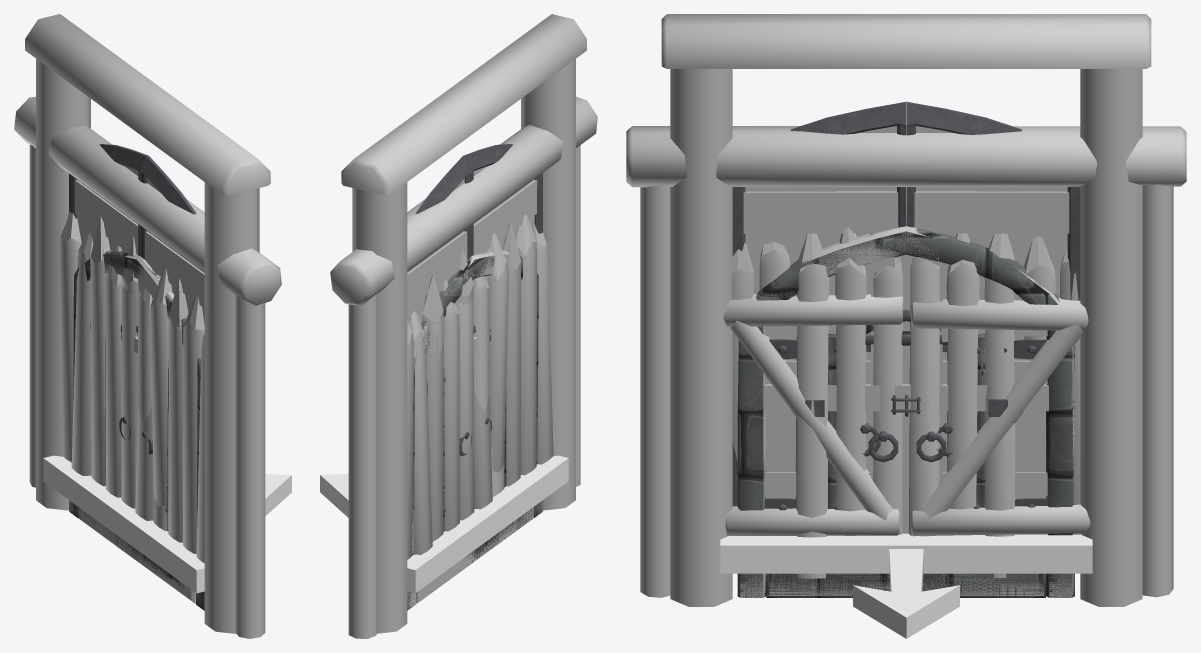
Rendered from doors.fbx.
3 renders of one model, left to right at view 1: azimuth 30°, elevation 25°; view 2: azimuth 150°, elevation 25°; view 3: azimuth 270°, elevation 25°, orthographic. The views are drawn at different scales.
Parts seen in each view (by area): view 1: Frame.002, posts, Right.001, Left.001, Frame.001, Trigger2, Door, frame-stone, Right, frame-wood.003, Log.02, Log.03 (+3 smaller); view 2: Frame.002, posts, Left.001, Right.001, Door, Trigger2, Frame.001, frame-stone, frame-wood.003, Left, Log.02, Right (+3 smaller); view 3: Frame.002, posts, Frame.001, frame-stone, Left.001, Right.001, Trigger2, Door, Left, Right, frame-wood.003, Log.06 (+12 smaller).
Part boxes in pixels (left/top/right/bottom): Frame.002: left=25, top=14, right=270, bottom=633; posts: left=14, top=96, right=281, bottom=638; Right.001: left=59, top=212, right=134, bottom=508; Left.001: left=135, top=267, right=204, bottom=563; Frame.001: left=36, top=14, right=270, bottom=630; Trigger2: left=43, top=455, right=204, bottom=593; Door: left=69, top=144, right=204, bottom=324; frame-stone: left=69, top=250, right=204, bottom=610; Right: left=72, top=151, right=144, bottom=255; frame-wood.003: left=69, top=250, right=200, bottom=603; Log.02: left=138, top=283, right=151, bottom=423; Log.03: left=122, top=236, right=138, bottom=508; Frame.002: left=341, top=14, right=586, bottom=633; posts: left=330, top=96, right=597, bottom=638; Left.001: left=474, top=214, right=553, bottom=509; Right.001: left=407, top=273, right=474, bottom=559; Door: left=407, top=144, right=542, bottom=324; Trigger2: left=407, top=455, right=568, bottom=593; Frame.001: left=341, top=14, right=560, bottom=251; frame-stone: left=407, top=252, right=543, bottom=610; frame-wood.003: left=407, top=250, right=543, bottom=610; Left: left=470, top=144, right=542, bottom=255; Log.02: left=473, top=276, right=489, bottom=411; Right: left=407, top=165, right=470, bottom=324; Frame.002: left=661, top=14, right=1151, bottom=606; posts: left=626, top=126, right=1186, bottom=597; Frame.001: left=661, top=14, right=1151, bottom=606; frame-stone: left=737, top=228, right=1074, bottom=597; Left.001: left=723, top=241, right=903, bottom=535; Right.001: left=911, top=236, right=1090, bottom=536; Trigger2: left=720, top=533, right=1092, bottom=573; Door: left=732, top=101, right=1080, bottom=506; Left: left=732, top=107, right=906, bottom=505; Right: left=906, top=108, right=1070, bottom=456; frame-wood.003: left=737, top=217, right=1074, bottom=597; Log.06: left=795, top=233, right=829, bottom=578.
Size of the model in its own units: 547 by 617 by 235.
